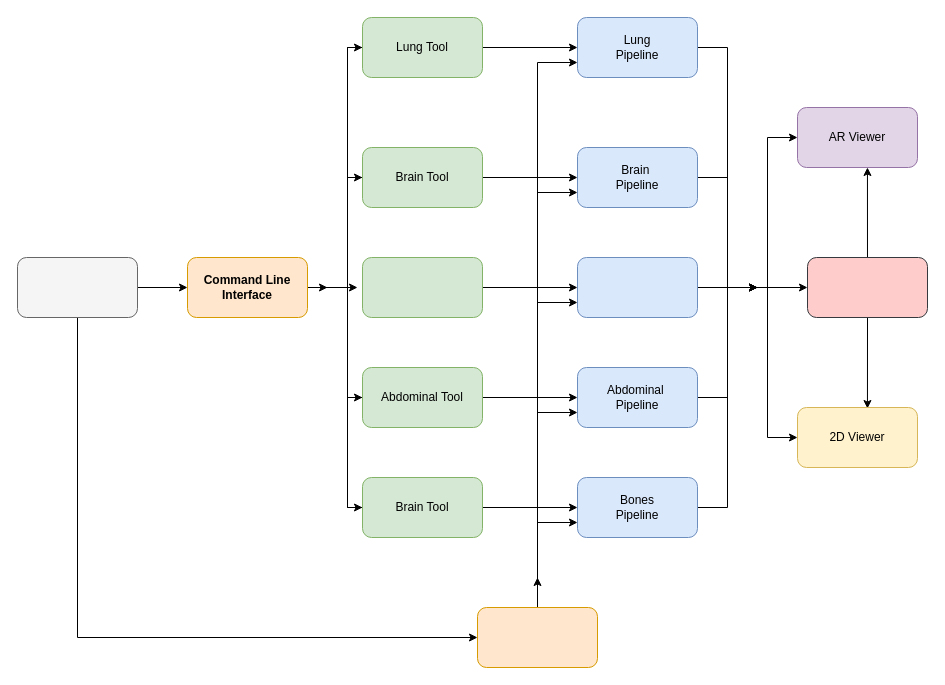
The diagram is 945 pixels wide and 685 high, and some of its shapes have lost their labels. The centre of each missing label's shape, as x and y in pixels:
3D Viewer / Editor: point (867, 287)
Graphical User Interface: point (537, 637)
Kidney Pipeline: point (637, 287)
Kidney Tool: point (422, 287)
User: point (77, 287)
